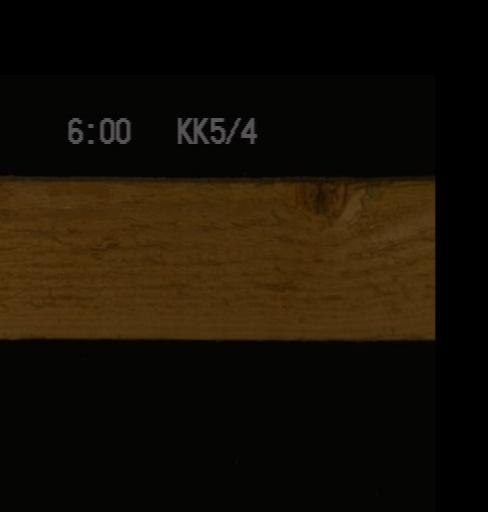edge_knot: (269, 178, 359, 225)
